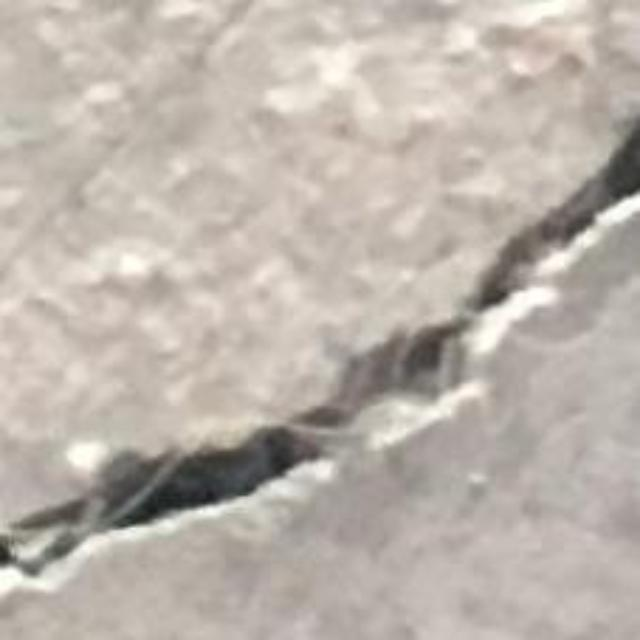crack: (0, 122, 639, 575)
